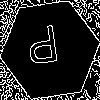P: (25, 25, 62, 74)
